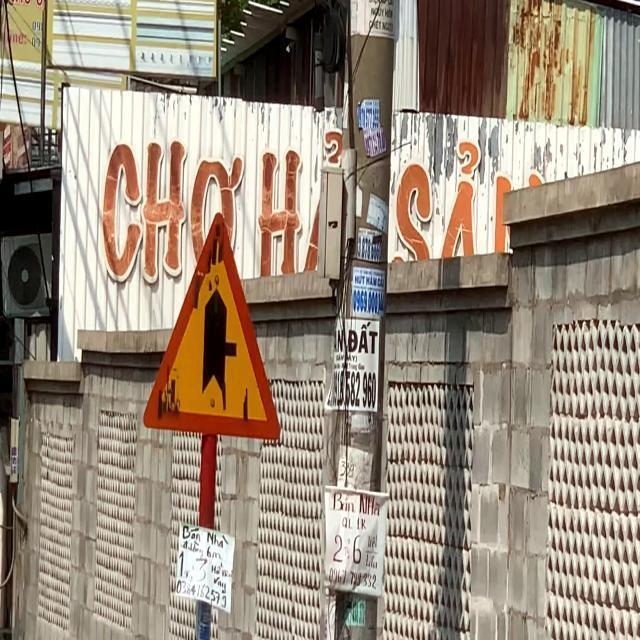207-giao-nhau-voi-duong-khong-uu-tien: (138, 215, 282, 440)
